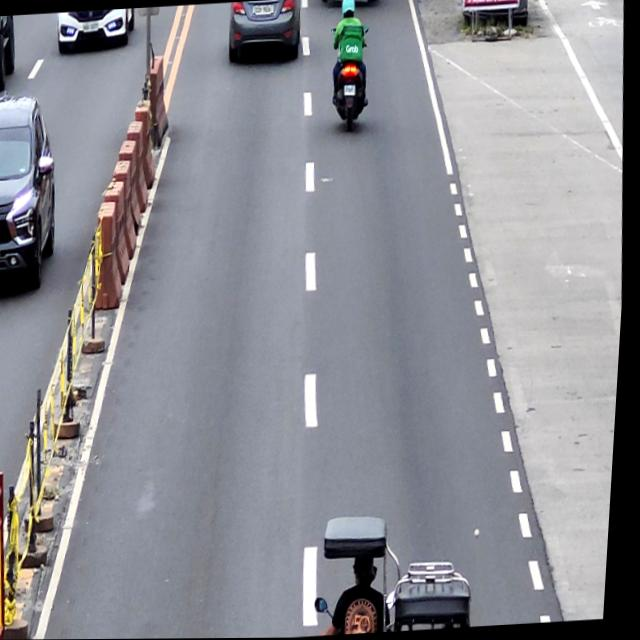Car: (224, 0, 303, 61)
License-Plate: (254, 4, 274, 17), (345, 84, 356, 96)
Motorcycle: (328, 22, 374, 127)
